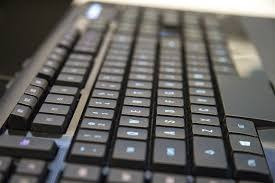keyboard: (0, 5, 275, 183)
